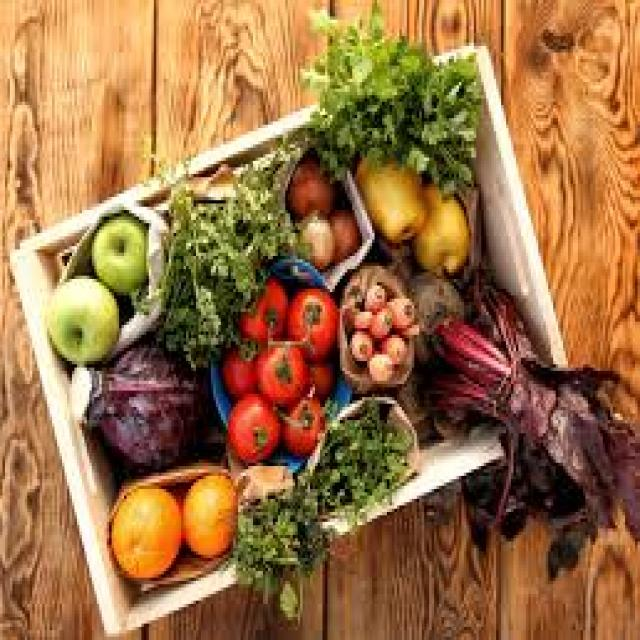organic waste: (410, 262, 638, 581), (300, 3, 479, 197), (154, 144, 290, 358), (67, 332, 211, 459), (233, 489, 325, 624), (303, 400, 412, 509), (349, 135, 422, 236), (392, 256, 464, 358), (106, 482, 178, 578), (45, 276, 119, 358), (409, 174, 466, 272), (87, 210, 144, 295), (181, 469, 231, 558), (283, 279, 337, 361), (251, 341, 305, 407), (228, 384, 276, 456), (253, 338, 305, 404), (235, 269, 282, 341), (283, 381, 325, 456), (285, 154, 335, 210), (216, 328, 258, 391), (293, 207, 332, 269), (325, 197, 357, 249), (307, 348, 335, 397), (384, 295, 412, 325), (275, 578, 298, 614), (367, 305, 392, 338), (367, 348, 392, 381), (347, 328, 370, 358), (382, 331, 407, 358), (350, 302, 372, 331), (360, 282, 384, 305)
